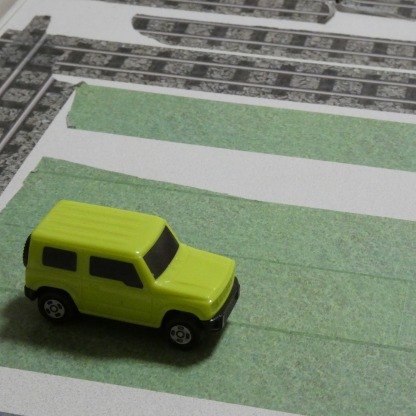car: (22, 199, 237, 350)
